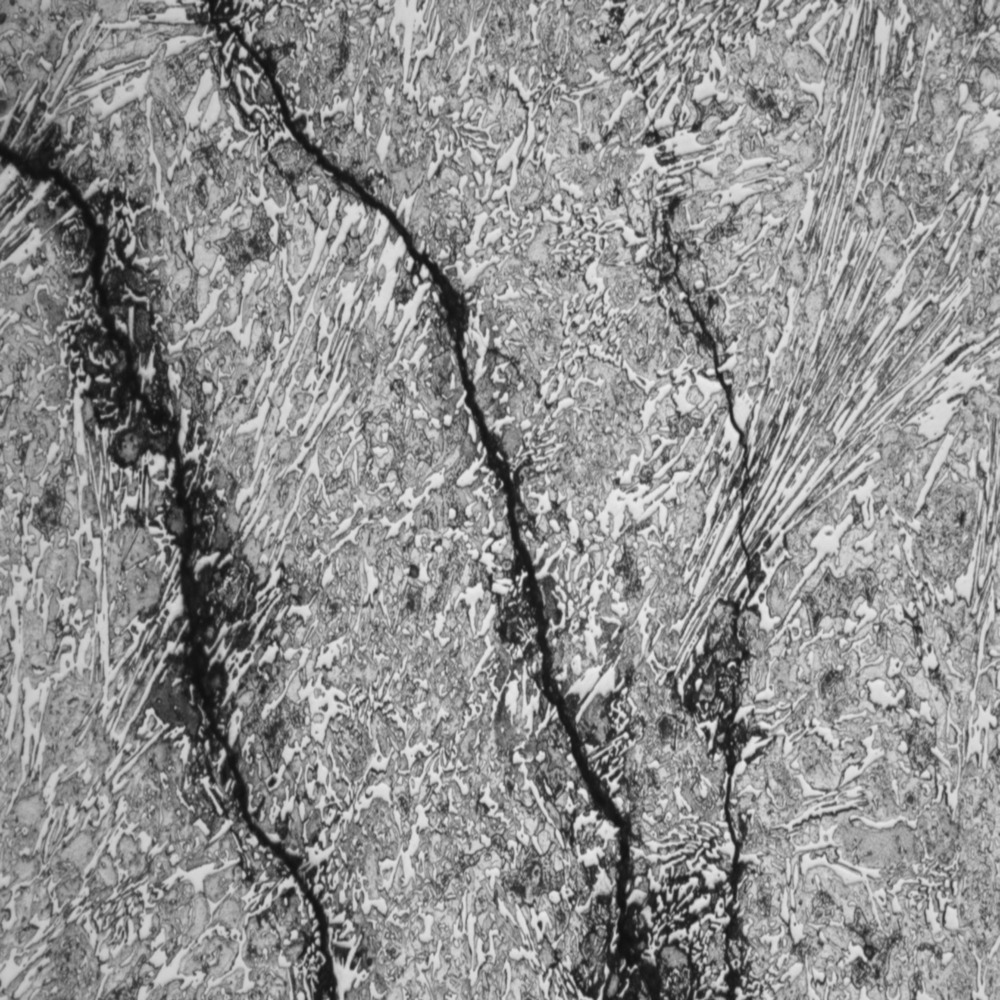crack: (203, 1, 807, 988), (1, 112, 374, 992)
